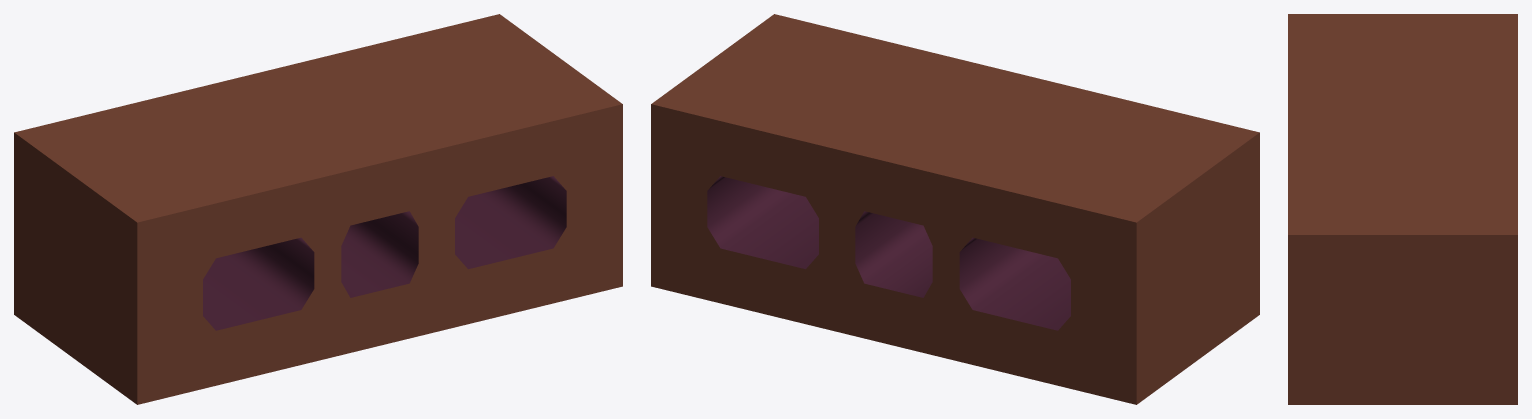
Rendered from Projectile_Brick.fbx.
The picture shows the model from 3 angles, left to right: view 1: azimuth 30°, elevation 25°; view 2: azimuth 150°, elevation 25°; view 3: azimuth 270°, elevation 25°; orthographic projection. The views are drawn at different scales.
Parts seen in each view (by area): view 1: PROJECTILE_Brick; view 2: PROJECTILE_Brick; view 3: PROJECTILE_Brick.
Boxes of the visible parts, <box> form: PROJECTILE_Brick: <box>14,14,622,404</box>; PROJECTILE_Brick: <box>651,14,1259,404</box>; PROJECTILE_Brick: <box>1288,14,1517,404</box>.
Size of the model in its own units: 74.25 by 26.65 by 32.63.
